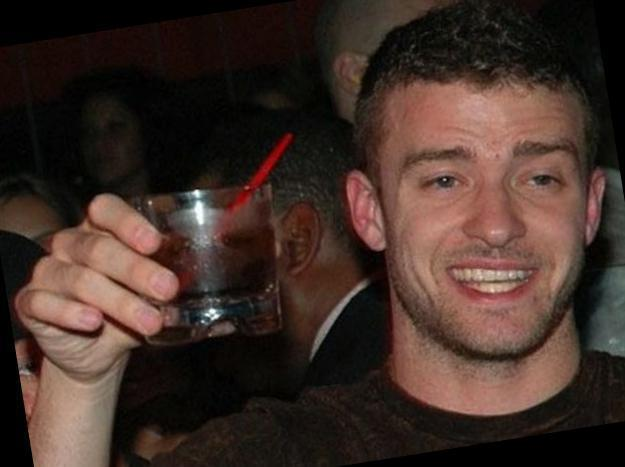Drunk: (395, 84, 577, 357)
